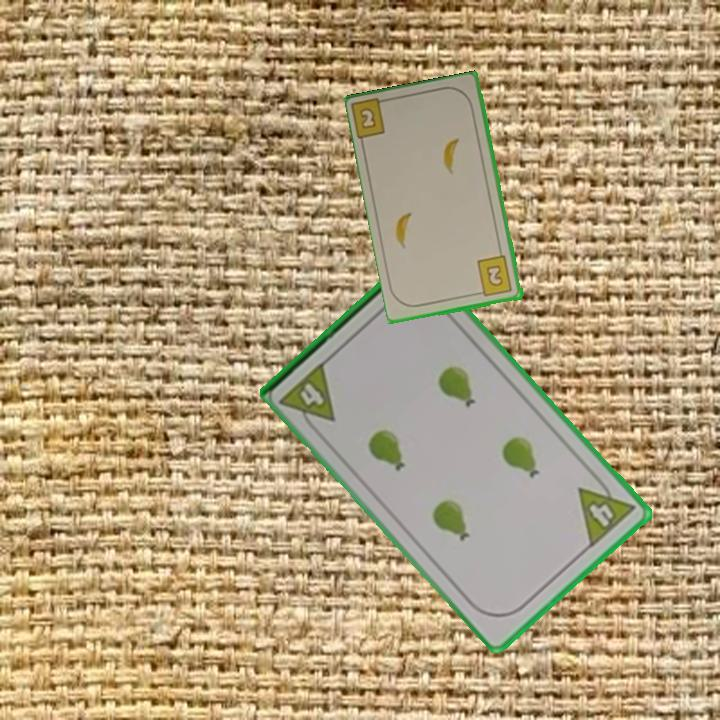2b: (350, 95, 394, 143), (474, 253, 515, 299)
4p: (574, 470, 638, 551), (277, 357, 339, 437)
